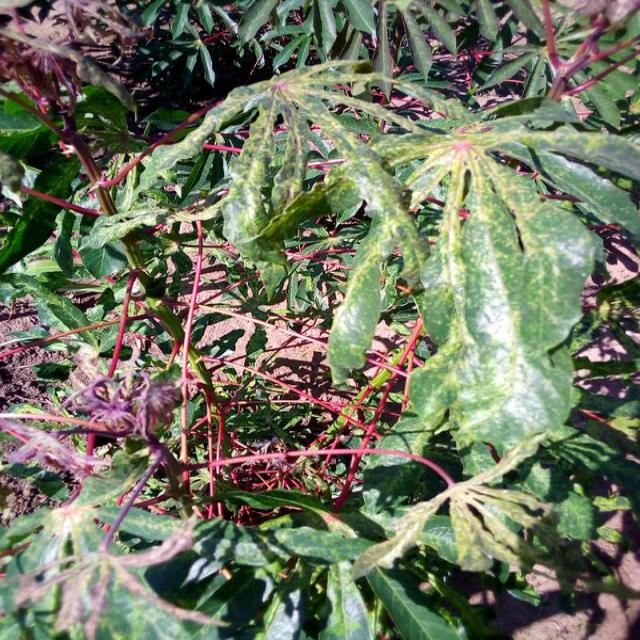cassava leaf: (407, 149, 606, 458)
